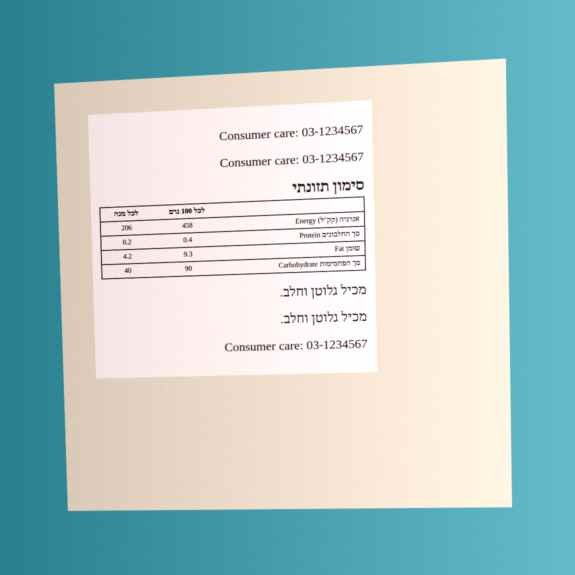carbs: (184, 264, 193, 274)
energy: (181, 220, 194, 231)
fat: (183, 249, 194, 260)
protein: (182, 235, 193, 245)
